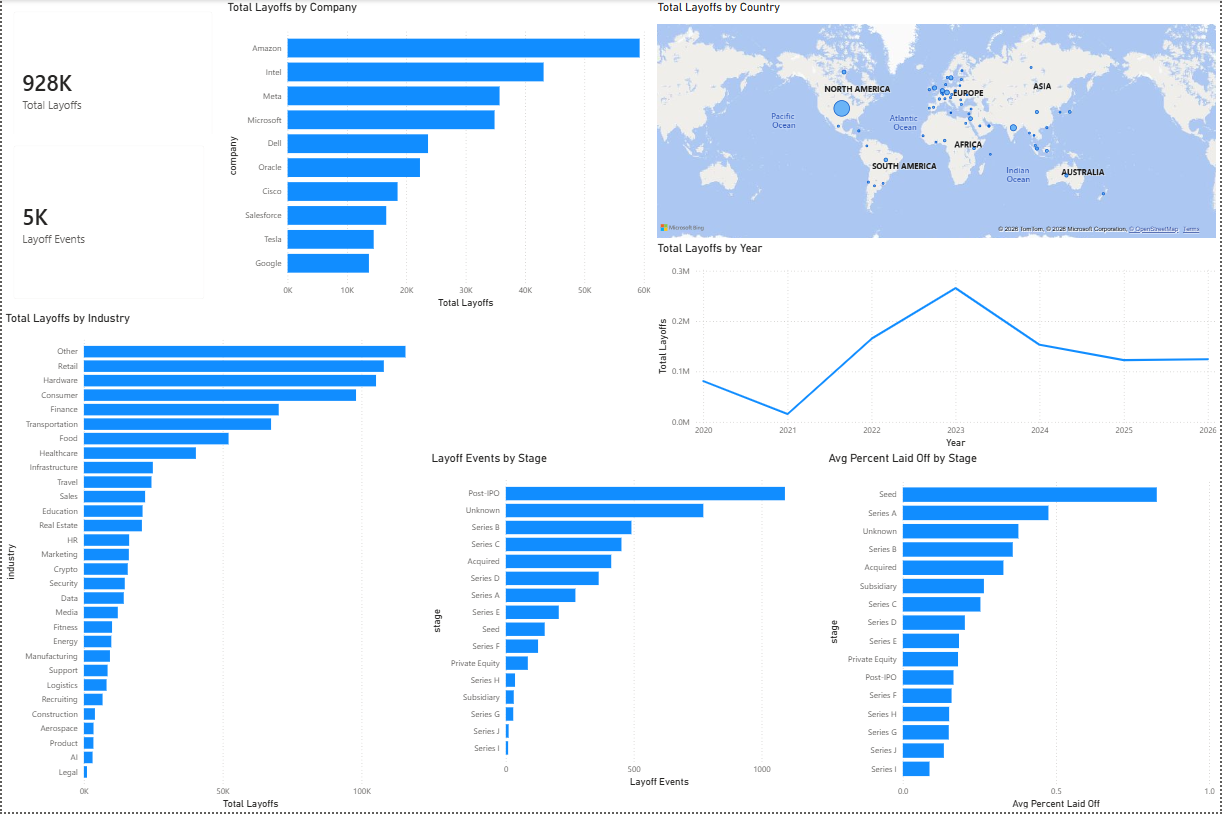

The page's visual inventory and layout, read from the dashboard file:
{"tool":"powerbi","page":{"name":"Page 1","canvas":[1800,1200],"ordinal":0},"visuals":[{"type":"cardVisual","fields":{"Data":["layoffs.Total Layoffs"]},"box":[0,0,328.1,261.6],"z":0},{"type":"cardVisual","fields":{"Data":["layoffs.Layoff Events"]},"box":[0,198,316.3,261.6],"z":1000},{"type":"clusteredBarChart","title":"Total Layoffs by Industry","fields":{"Category":["layoffs.industry"],"Y":["layoffs.Total Layoffs"]},"box":[0,459.6,632.5,740.4],"z":2000},{"type":"clusteredBarChart","title":"Total Layoffs by Company","fields":{"Category":["layoffs.company"],"Y":["layoffs.Total Layoffs"]},"box":[328.1,0,635.5,459.6],"z":3000},{"type":"lineChart","fields":{"Y":["layoffs.Total Layoffs"],"Category":["layoffs.date.Variation.Date Hierarchy.Year","layoffs.date.Variation.Date Hierarchy.Quarter","layoffs.date.Variation.Date Hierarchy.Month","layoffs.date.Variation.Date Hierarchy.Day"]},"box":[963.5,356.2,836.5,310.3],"z":4000},{"type":"map","title":"Total Layoffs by Country","fields":{"Category":["layoffs.country"],"Size":["layoffs.Total Layoffs"]},"box":[963.5,0,836.5,356.2],"z":5000},{"type":"clusteredBarChart","title":"Avg Percent Laid Off by Stage","fields":{"Category":["layoffs.stage"],"Y":["layoffs.Avg Percent Laid Off"]},"box":[1216.3,666.5,580.8,533.5],"z":5001},{"type":"clusteredBarChart","title":"Layoff Events by Stage","fields":{"Category":["layoffs.stage"],"Y":["layoffs.Layoff Events"]},"box":[629.6,666.5,586.7,501],"z":5002}]}

Visuals, with their boxes in screenshot pixels (x1, y1, x2, y2), scaled from the page's 1800x1200 canvas onto the 1222x814 screenshot:
cardVisual - layoffs.Total Layoffs: 0, 0, 223, 177
cardVisual - layoffs.Layoff Events: 0, 134, 215, 312
"Total Layoffs by Industry" clusteredBarChart: 0, 312, 429, 813
"Total Layoffs by Company" clusteredBarChart: 223, 0, 654, 312
lineChart - layoffs.Total Layoffs x layoffs.date.Variation.Date Hierarchy.Year: 654, 242, 1221, 452
"Total Layoffs by Country" map: 654, 0, 1221, 242
"Avg Percent Laid Off by Stage" clusteredBarChart: 826, 452, 1220, 813
"Layoff Events by Stage" clusteredBarChart: 427, 452, 826, 792
